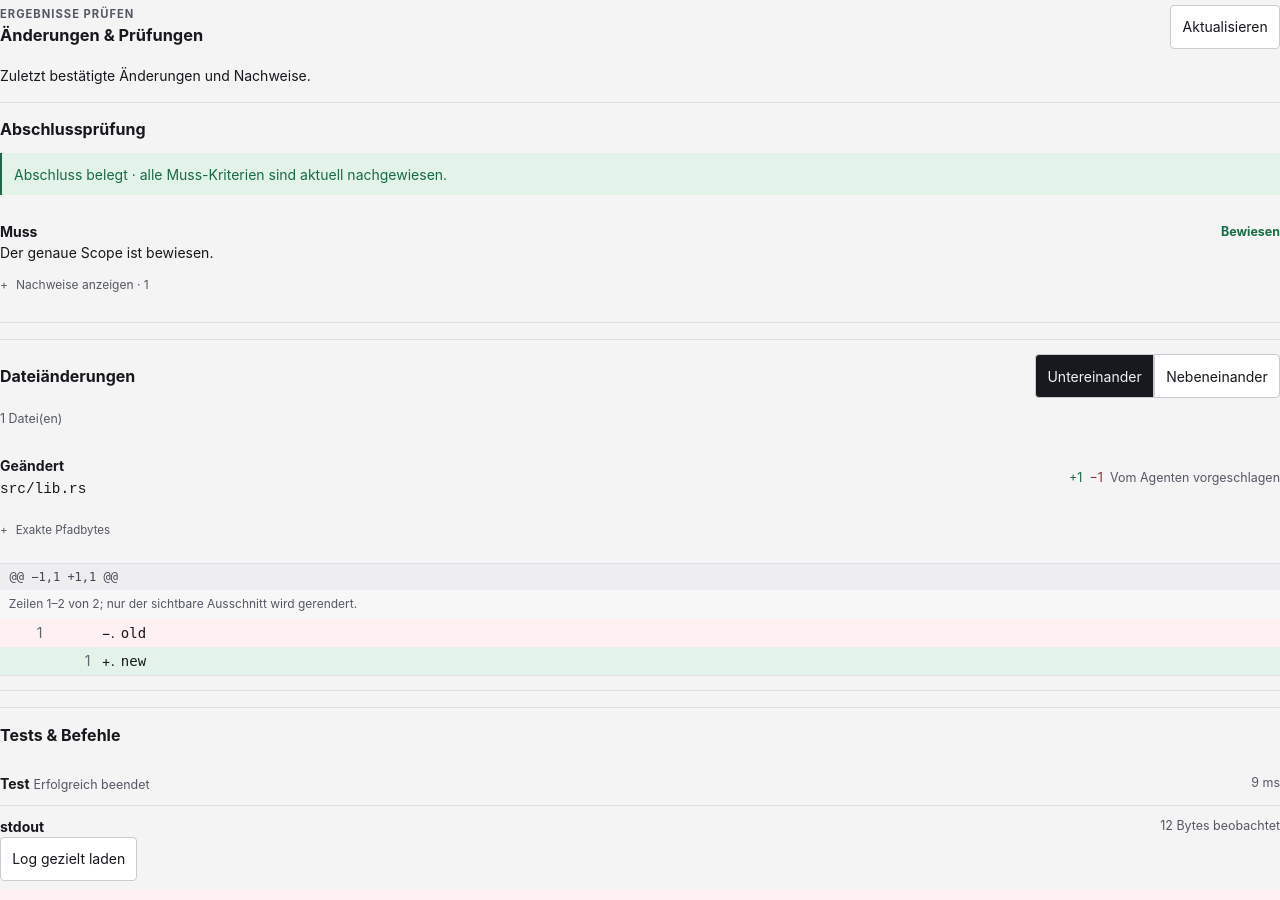
AgentInspectionPanel › shows exact Must proofs and never hides stale verification
Check: the text "Abschluss belegt · alle Muss-Kriterien" is shown, box [14, 166, 447, 183]
Click the button "Aktualisieren" at [1225, 27], box [1170, 5, 1279, 49]
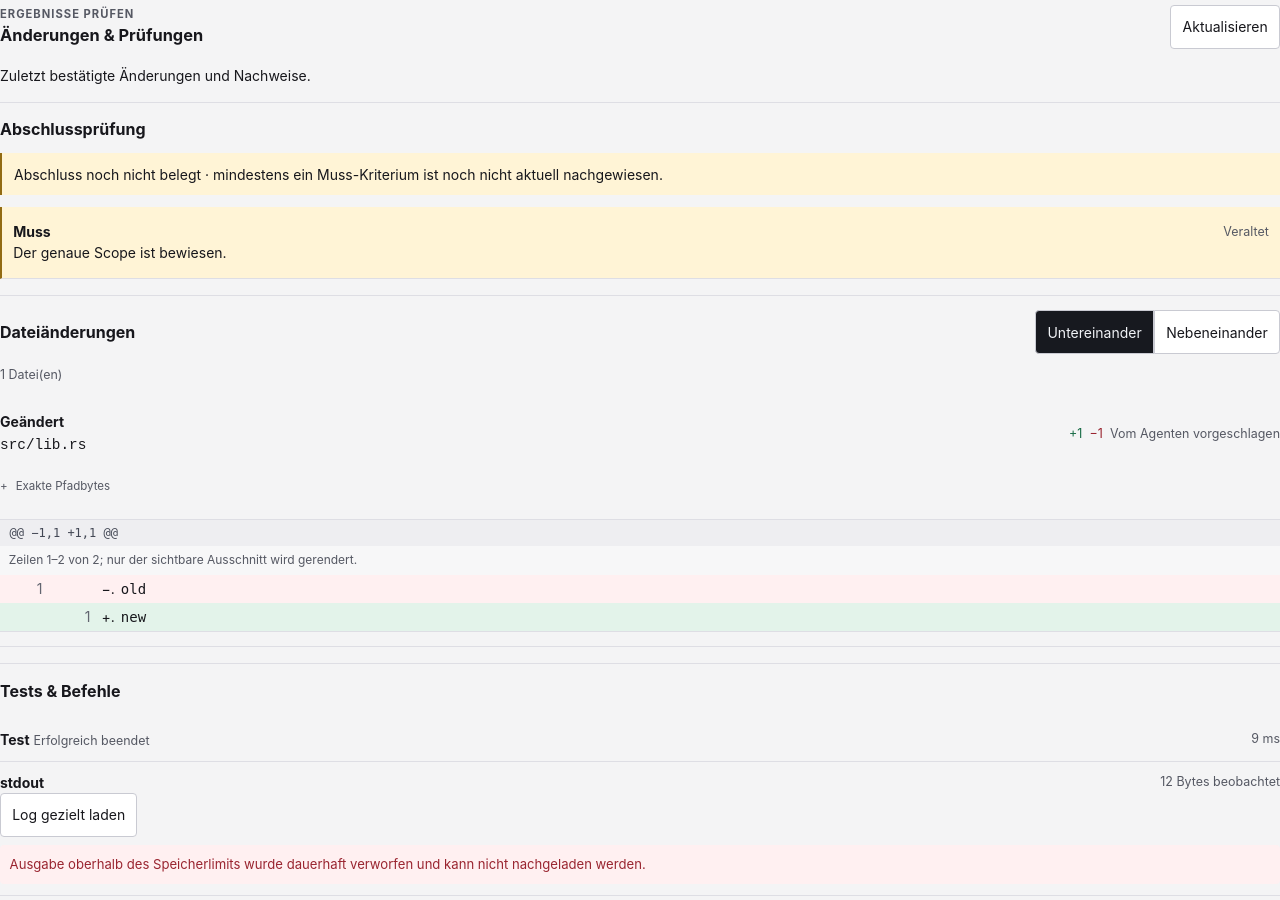
Check: the text "Abschluss noch nicht belegt" is shown, box [14, 166, 663, 183]
